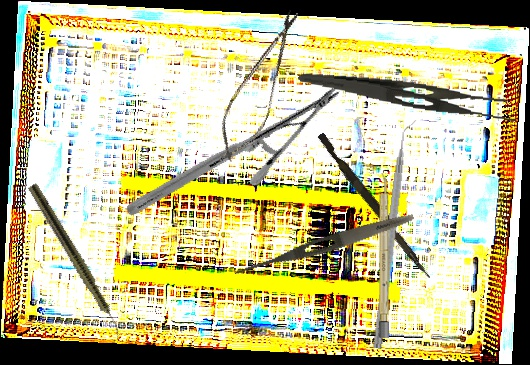Chopper: (373, 118, 422, 351)
Dressing Forceps: (230, 208, 417, 283), (295, 71, 521, 126)
Handpiece: (25, 182, 129, 342)
Micro Scissor: (207, 2, 312, 169)
Needle Holder: (124, 26, 342, 276)
Pusher: (313, 132, 437, 280)
Scalpel Handle: (379, 173, 389, 338)
